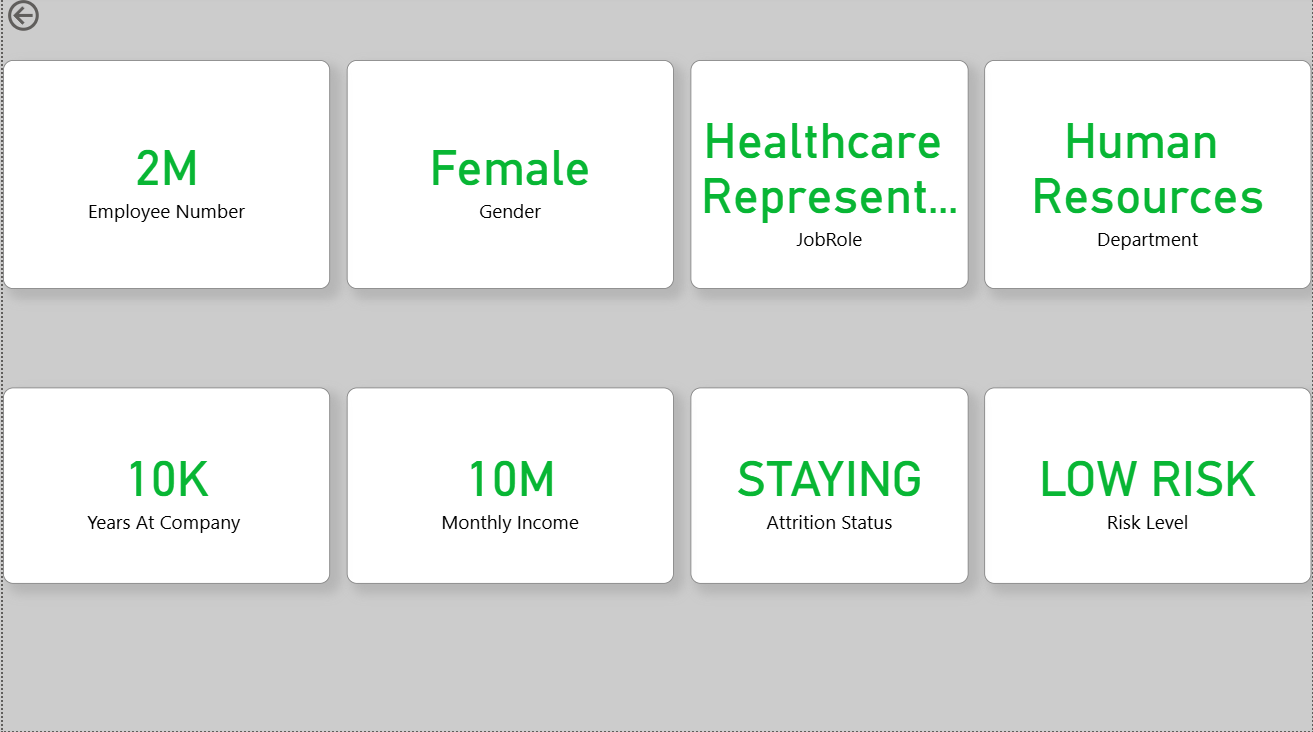

What the dashboard file says about the page in this screenshot:
{"tool":"powerbi","page":{"name":"Employee Detail","canvas":[1280,720],"ordinal":2},"visuals":[{"type":"actionButton","box":[0,0,100,40],"z":0},{"type":"card","fields":{"Values":["Min(HR_Data.Gender)"]},"box":[336,64,320,224],"z":1000},{"type":"card","fields":{"Values":["HR_Data.Risk Level"]},"box":[960,384,320,192],"z":2000},{"type":"card","fields":{"Values":["HR_Data.Attrition Status"]},"box":[672,384,272,192],"z":3000},{"type":"card","fields":{"Values":["Sum(HR_Data.MonthlyIncome)"]},"box":[336,384,320,192],"z":4000},{"type":"card","fields":{"Values":["Min(HR_Data.Department)"]},"box":[960,64,320,224],"z":5000},{"type":"card","fields":{"Values":["Min(HR_Data.JobRole)"]},"box":[672,64,272,224],"z":6000},{"type":"card","fields":{"Values":["Sum(HR_Data.YearsAtCompany)"]},"box":[0,384,320,192],"z":7000},{"type":"card","fields":{"Values":["Sum(HR_Data.EmployeeNumber)"]},"box":[0,64,320,224],"z":8000}]}

Visuals, with their boxes on the page's 1280x720 design canvas (x1, y1, x2, y2). These are canvas units, not pixel positions in the 1313x732 screenshot, which may show the page scaled, cropped or inside an application window:
actionButton: detection(0, 0, 100, 40)
card - Min(HR_Data.Gender): detection(336, 64, 656, 288)
card - HR_Data.Risk Level: detection(960, 384, 1280, 576)
card - HR_Data.Attrition Status: detection(672, 384, 944, 576)
card - Sum(HR_Data.MonthlyIncome): detection(336, 384, 656, 576)
card - Min(HR_Data.Department): detection(960, 64, 1280, 288)
card - Min(HR_Data.JobRole): detection(672, 64, 944, 288)
card - Sum(HR_Data.YearsAtCompany): detection(0, 384, 320, 576)
card - Sum(HR_Data.EmployeeNumber): detection(0, 64, 320, 288)
